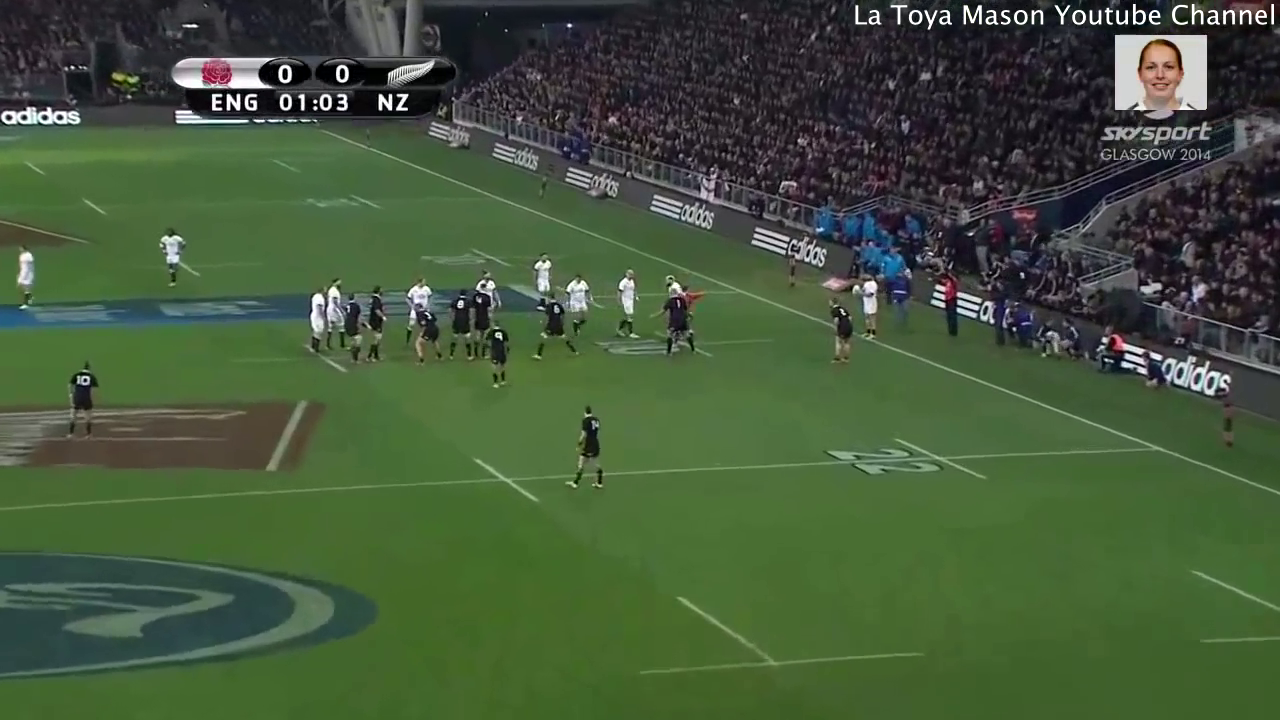10_metre: (580, 328, 776, 362), (228, 340, 391, 372), (144, 248, 272, 278), (413, 246, 562, 271)
ball: (850, 279, 865, 299)
player: (564, 402, 607, 492), (531, 291, 585, 358), (62, 358, 102, 443), (656, 288, 697, 358), (10, 245, 48, 315), (821, 294, 853, 369), (853, 271, 885, 342), (483, 319, 513, 390), (151, 228, 187, 286), (339, 290, 366, 363), (562, 274, 595, 333), (407, 275, 434, 344), (414, 301, 443, 365), (365, 285, 389, 362), (449, 287, 471, 364), (617, 265, 639, 341), (307, 282, 329, 355), (324, 277, 345, 350), (471, 291, 493, 359), (531, 247, 553, 311), (475, 267, 503, 308)
